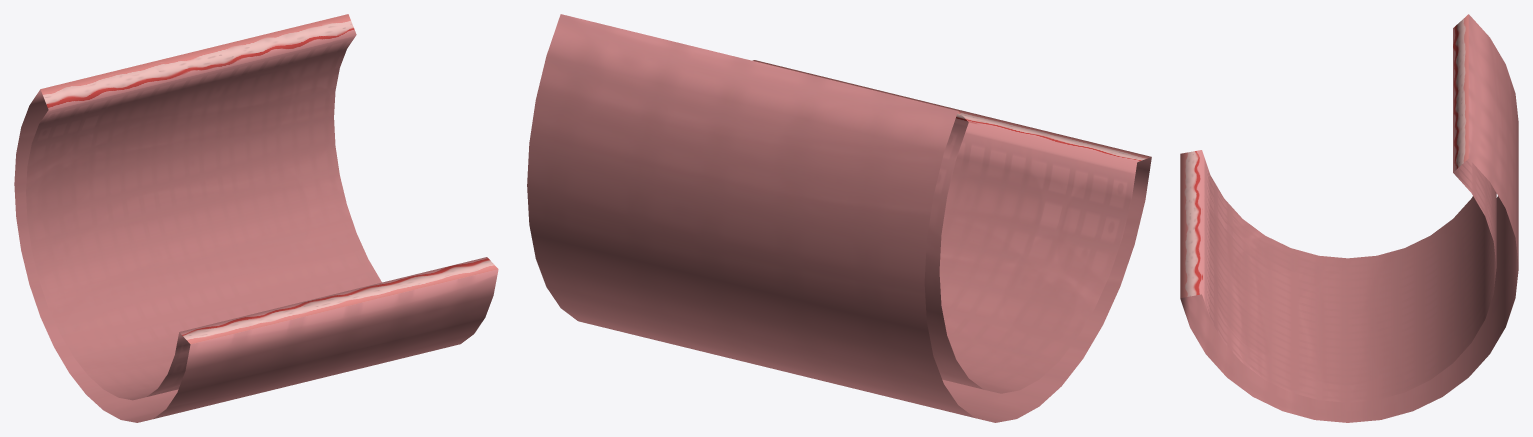
Rendered from VeiasBase.fbx.
3 views of the same model, side by side, from view 1: azimuth 30°, elevation 25°; view 2: azimuth 150°, elevation 25°; view 3: azimuth 270°, elevation 25° (orthographic). The views are drawn at different scales.
Visible parts, largest first — view 1: Cylinder; view 2: Cylinder; view 3: Cylinder.
Part boxes in pixels (x1,y1,x2,y2): Cylinder: (14, 14, 498, 422); Cylinder: (527, 14, 1151, 422); Cylinder: (1180, 14, 1518, 422).
Size of the model in its own units: 106 by 90.75 by 105.
Materials: 1 (1 with a texture image).
